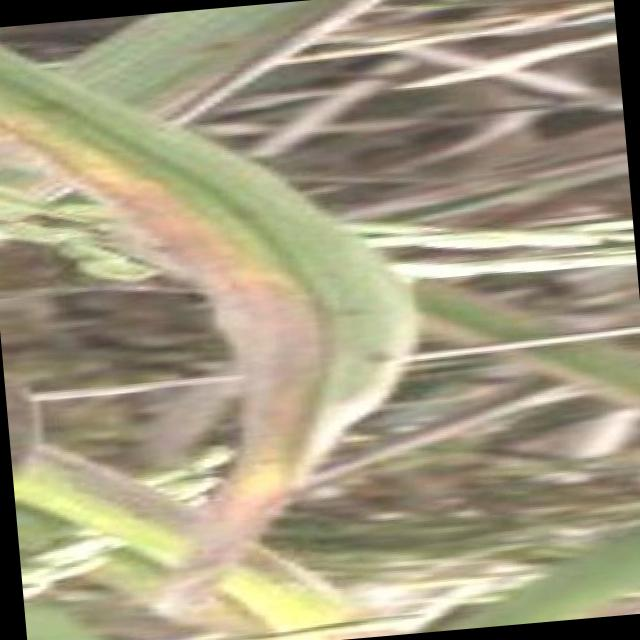Rice_Bacterial_Blight: (176, 130, 419, 488)
